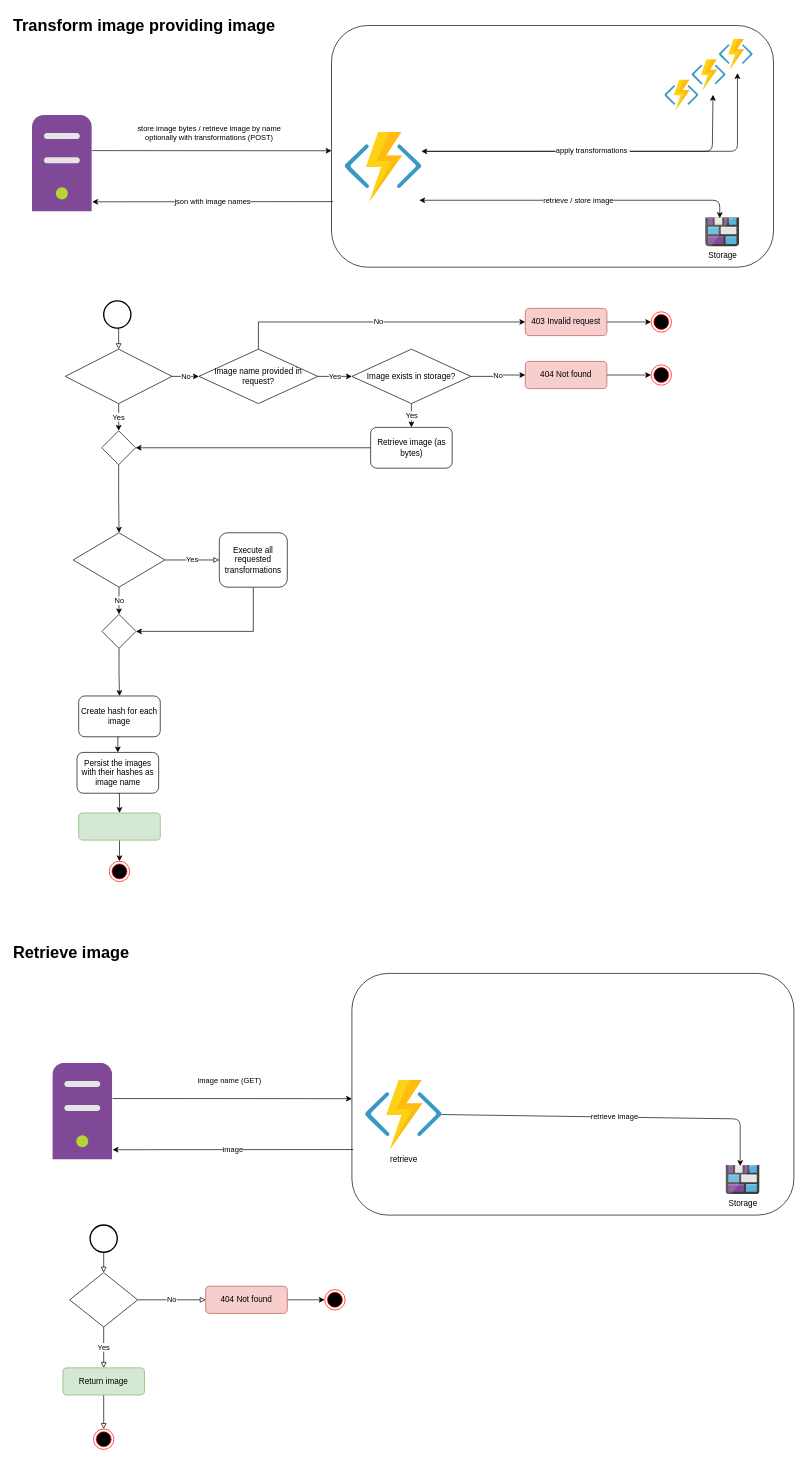
This 806x1461 diagram has some shape labels left out. The shapes that lost their labels are listed below. From the top down, each one's centre as x and y in pixels, then its label:
the point at 681,95: transformations
the point at 383,167: transform
the point at 118,376: Image bytes provided in request?
the point at 118,559: Transformations requested?
the point at 119,826: Return json with file names
the point at 103,1299: Image exists?
